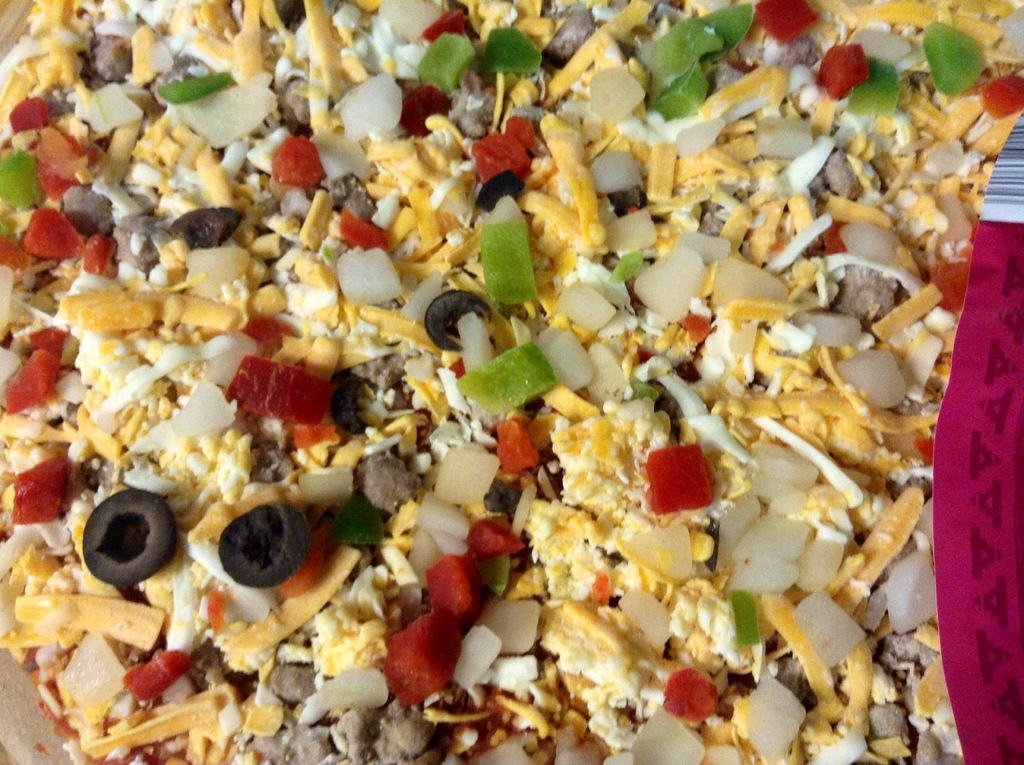Pizza: (0, 0, 1023, 763)
